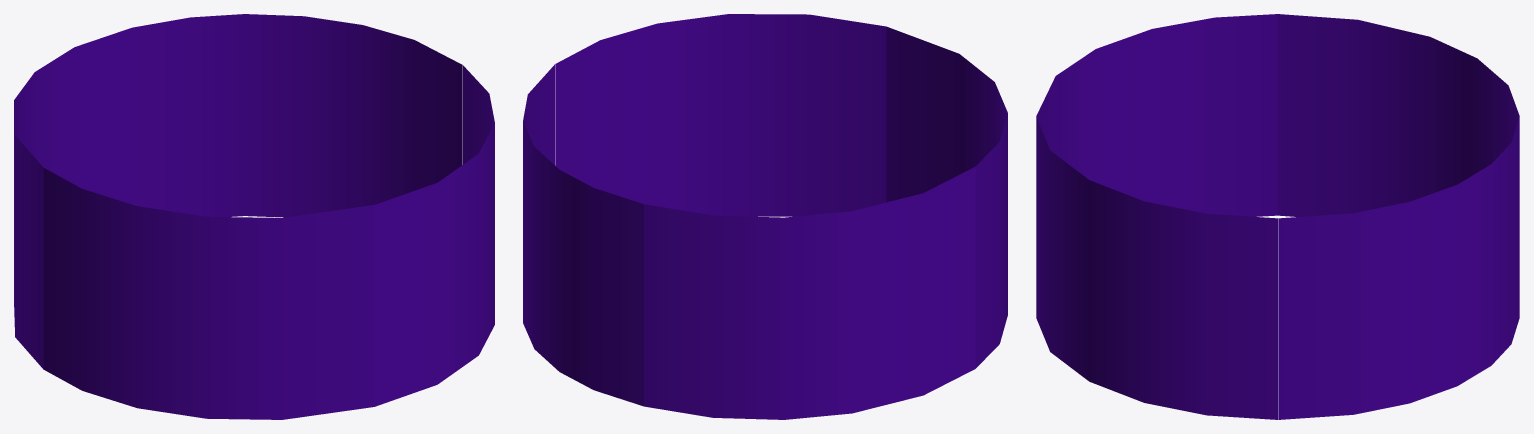
The model's file is S_Ironworks_05.fbx.
The picture shows the model from 3 angles, left to right: view 1: azimuth 30°, elevation 25°; view 2: azimuth 150°, elevation 25°; view 3: azimuth 270°, elevation 25°; orthographic projection.
Visible parts, largest first — view 1: S_Ironworks_05; view 2: S_Ironworks_05; view 3: S_Ironworks_05.
Boxes of the visible parts, <box> form: S_Ironworks_05: <box>14,14,494,419</box>; S_Ironworks_05: <box>523,14,1007,419</box>; S_Ironworks_05: <box>1036,14,1519,419</box>.
Size of the model in its own units: 173 by 79.6 by 173.
